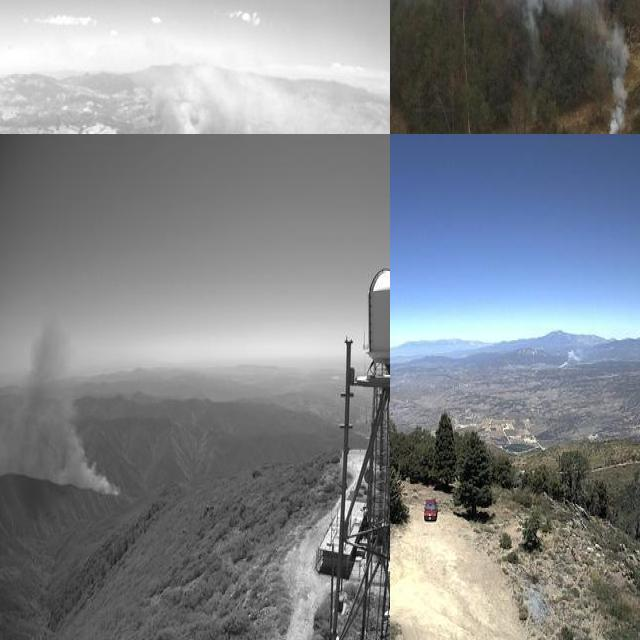smoke: (101, 44, 353, 134), (0, 316, 122, 498), (390, 0, 630, 57), (548, 338, 596, 374)
